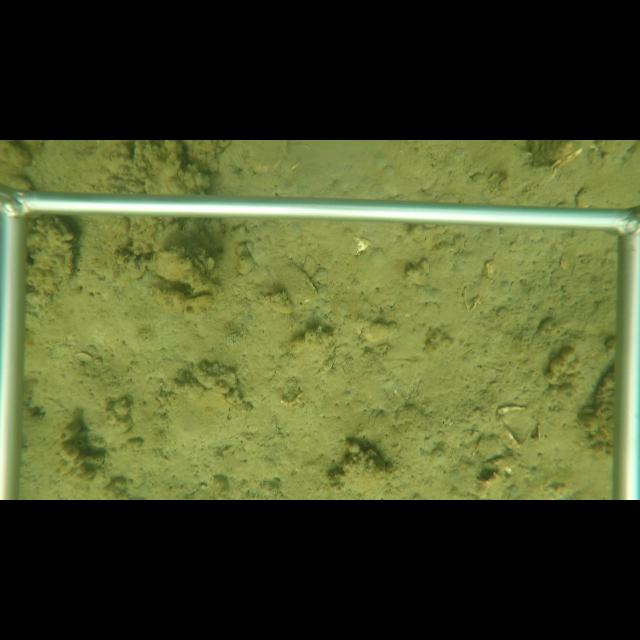Oyster-Closed: (33, 218, 78, 296), (146, 249, 221, 295), (277, 261, 322, 306)
